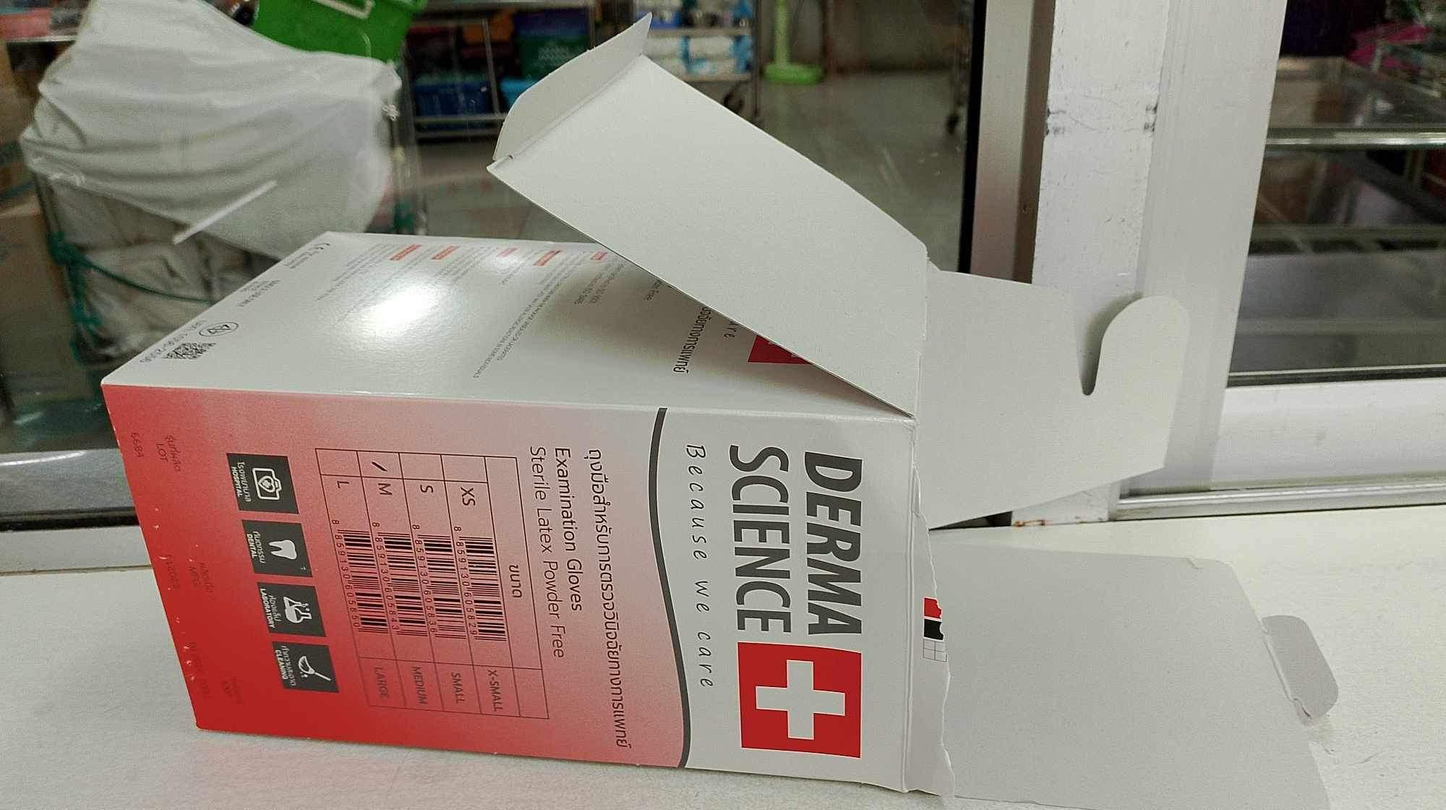General: (92, 11, 1334, 803), (98, 226, 957, 796)
Sharps: (168, 176, 279, 247)
